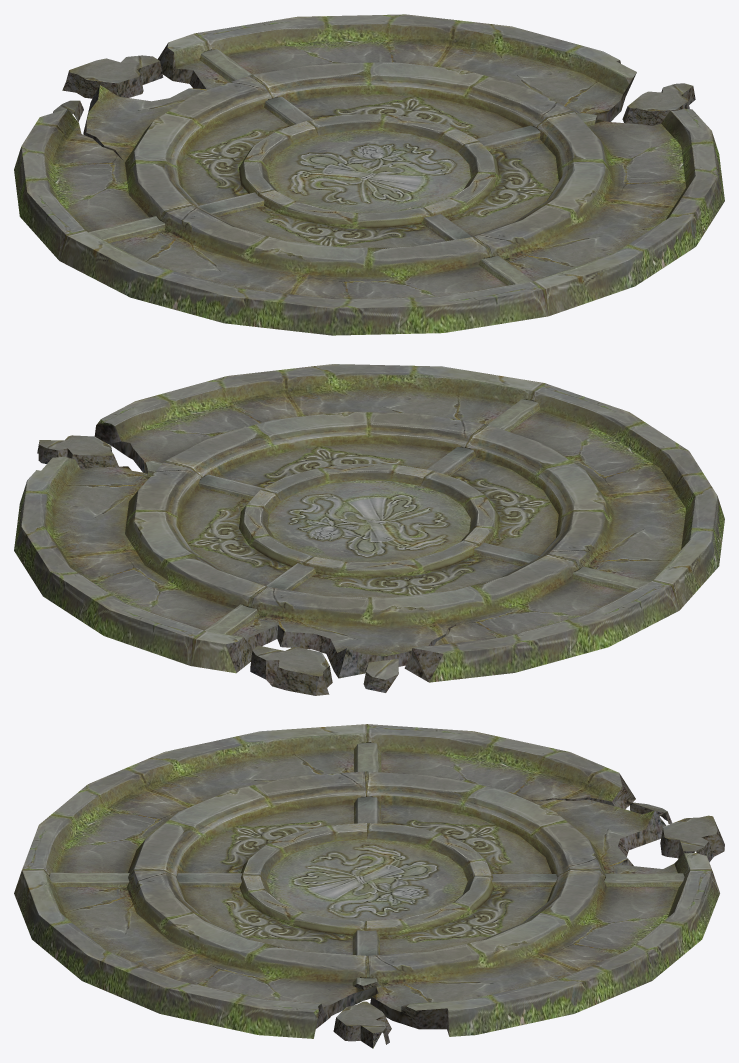
The model's file is wlf_shitai02_w.FBX.
3 views of the same model, one above another, from view 1: azimuth 30°, elevation 25°; view 2: azimuth 150°, elevation 25°; view 3: azimuth 270°, elevation 25° (orthographic).
Visible parts, largest first — view 1: wlf_shitai02_w; view 2: wlf_shitai02_w; view 3: wlf_shitai02_w.
Part boxes in pixels (left/top/right/bottom): wlf_shitai02_w: left=14, top=14, right=724, bottom=335; wlf_shitai02_w: left=14, top=364, right=724, bottom=695; wlf_shitai02_w: left=14, top=724, right=724, bottom=1048.
Size of the model in its own units: 93.21 by 4.28 by 91.03.
